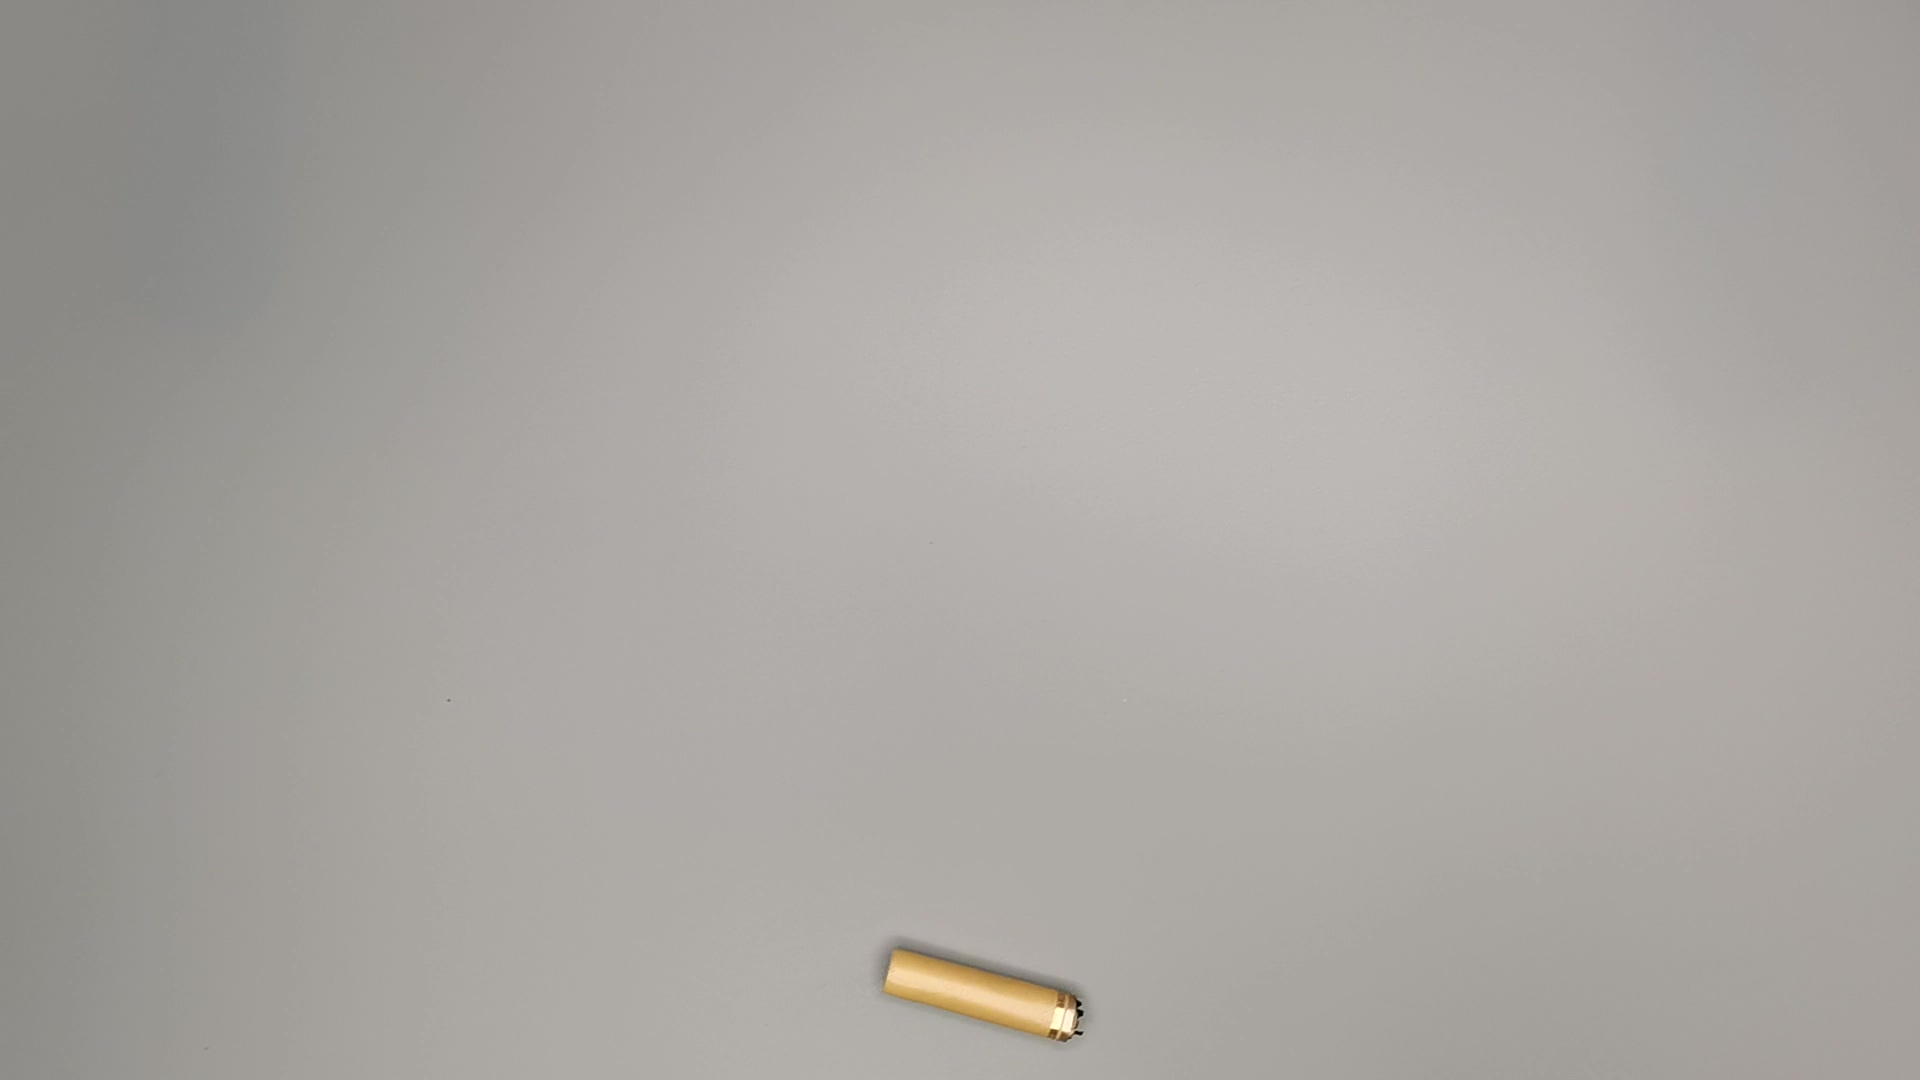cigarette: (877, 942, 1095, 1050)
